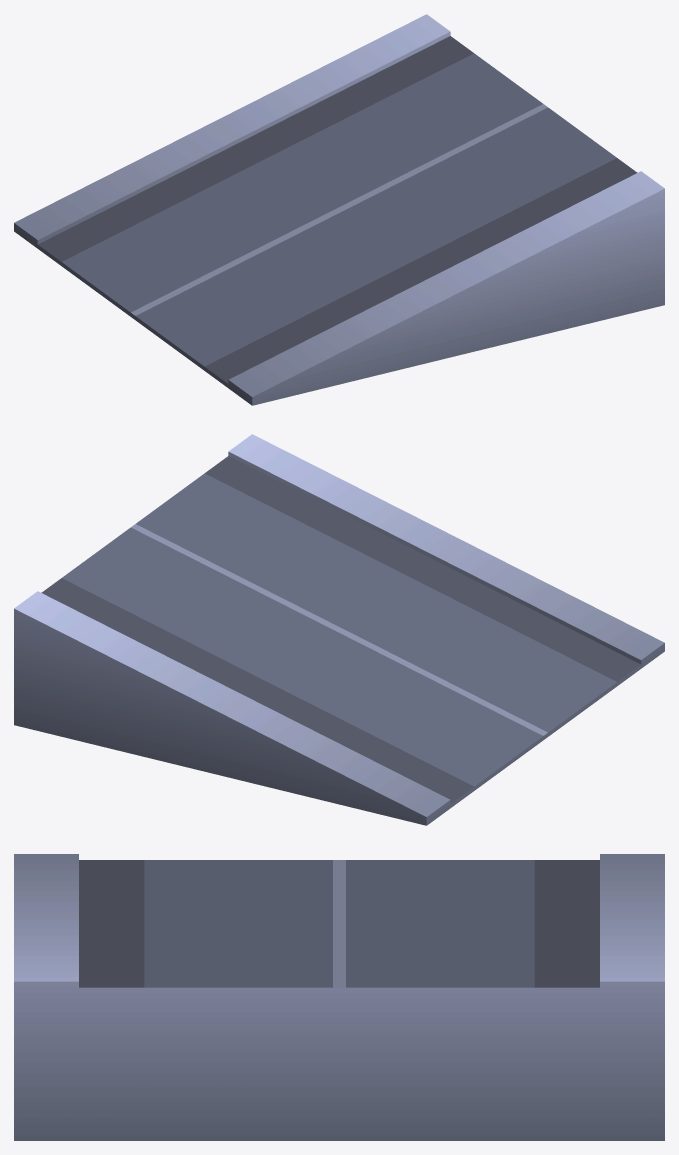
The model's file is road-slant.glb.
3 renders of one model, top to bottom at view 1: azimuth 30°, elevation 25°; view 2: azimuth 150°, elevation 25°; view 3: azimuth 270°, elevation 25°, orthographic. The views are drawn at different scales.
Visible parts, largest first — view 1: road-slant; view 2: road-slant; view 3: road-slant.
Part boxes in pixels (x1,y1,x2,y2): road-slant: (14,14,664,405); road-slant: (14,434,664,825); road-slant: (14,854,664,1140).
Size of the model in its own units: 1 by 0.27 by 1.
Materials: 1 (1 with a texture image).
